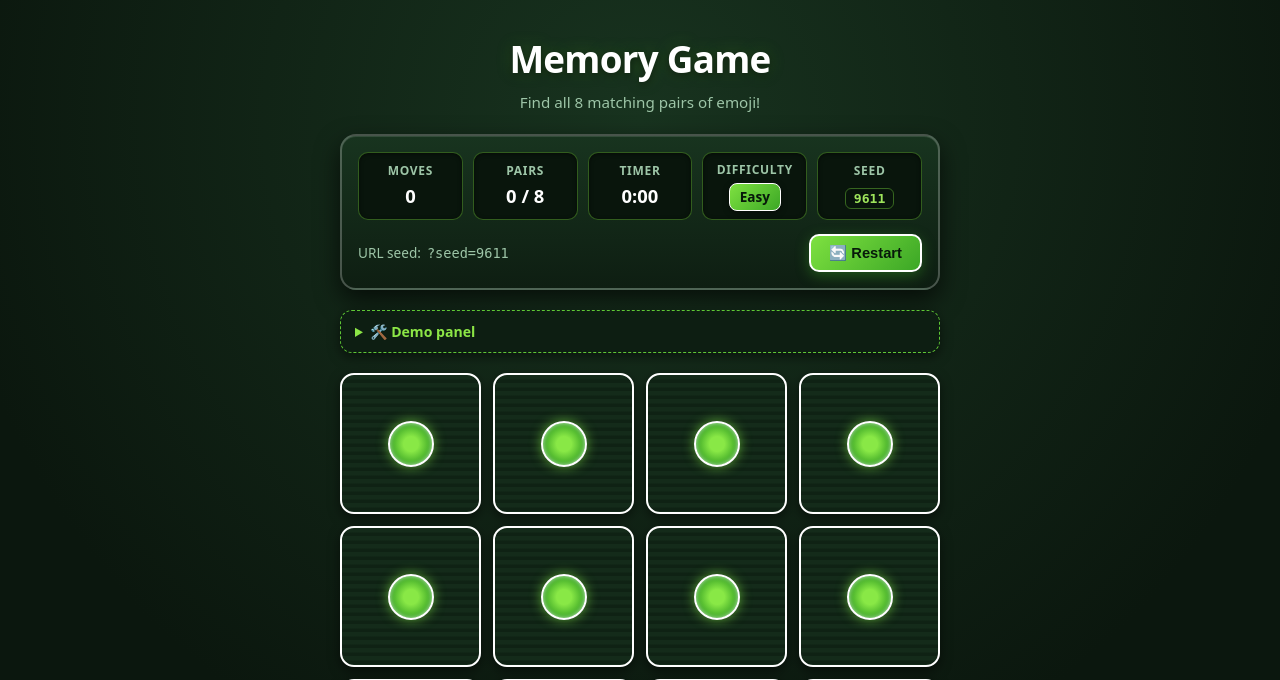
Test: Memory Game UI (App.jsx) › allows clicking a card to reveal it and starts the timer on first flip
Click the button named "Card 1: hidden" at (410, 444), box [340, 374, 481, 514]
Wait 2100 ms
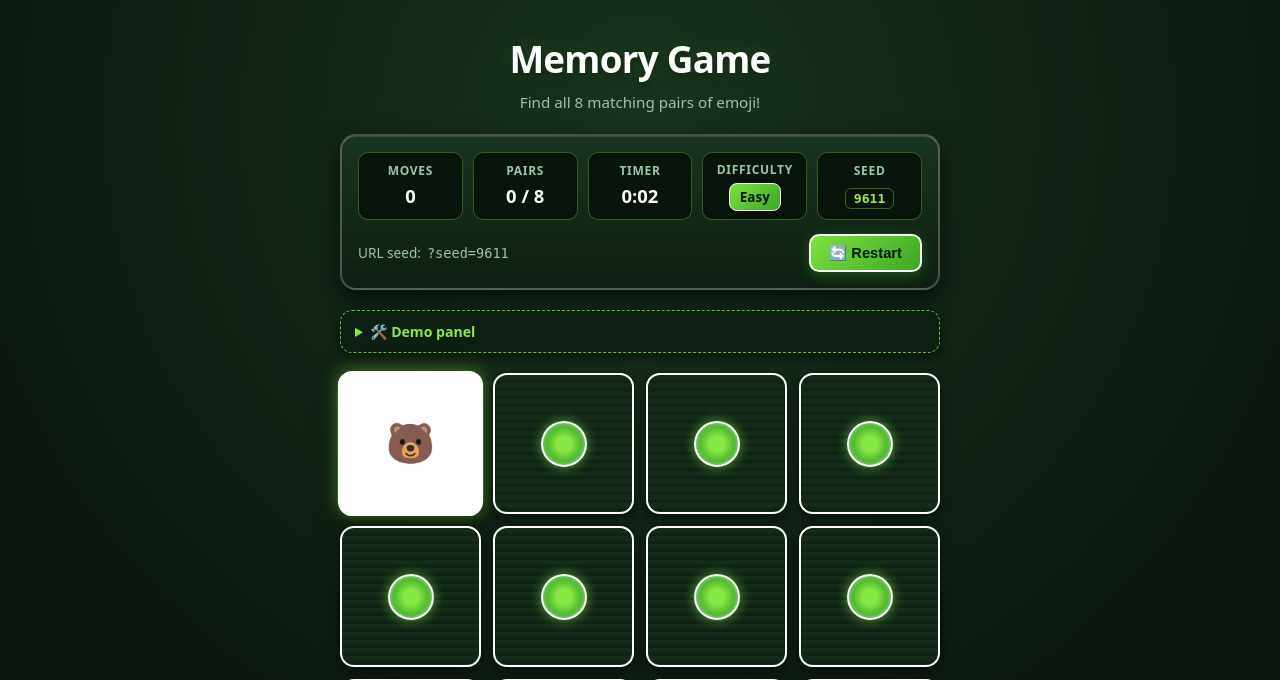
Now the text "0:02" is shown, box [622, 182, 658, 210]
